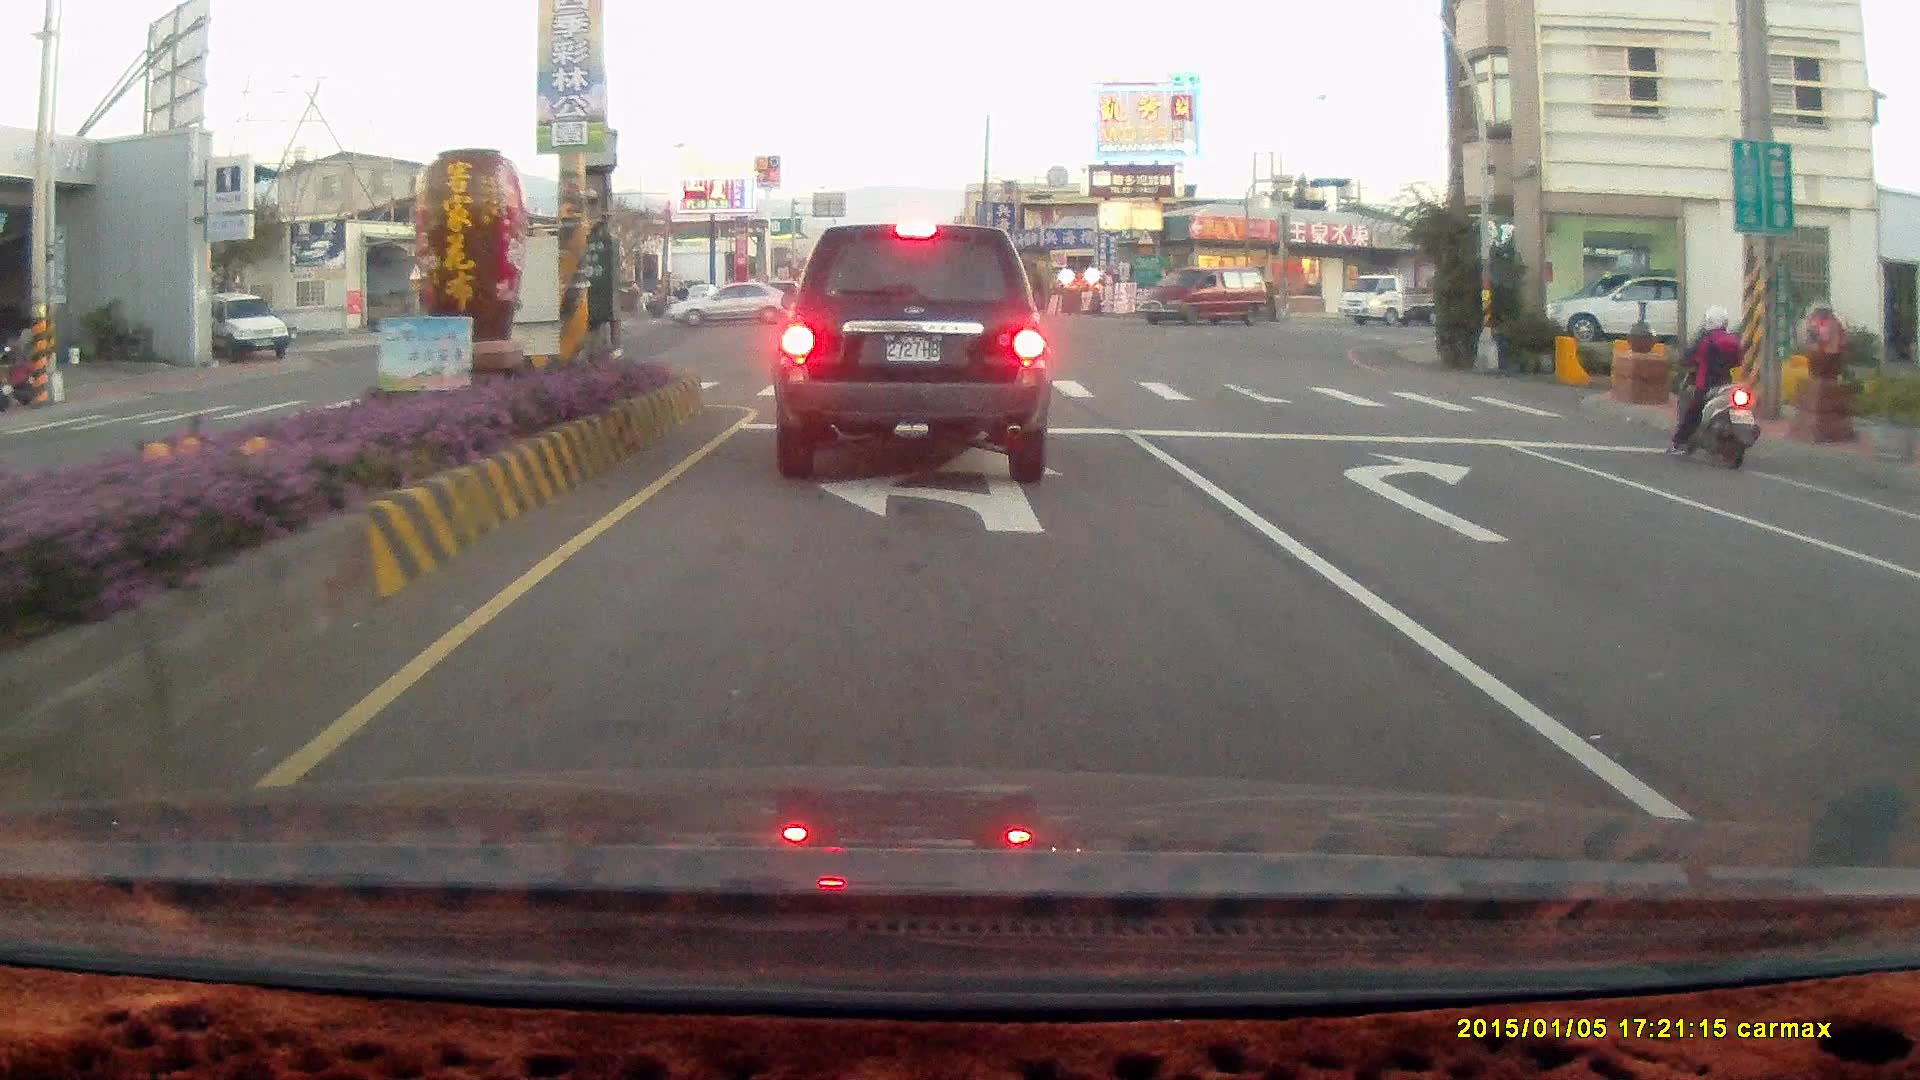rider: (1669, 305, 1761, 471)
vehicle: (770, 222, 1051, 483), (1538, 271, 1727, 350), (1561, 281, 1689, 345), (1144, 268, 1279, 328), (1896, 493, 1920, 836), (1138, 265, 1271, 325), (193, 292, 291, 364), (662, 279, 796, 328), (1339, 274, 1451, 330), (1883, 528, 1920, 690), (669, 283, 798, 329)
